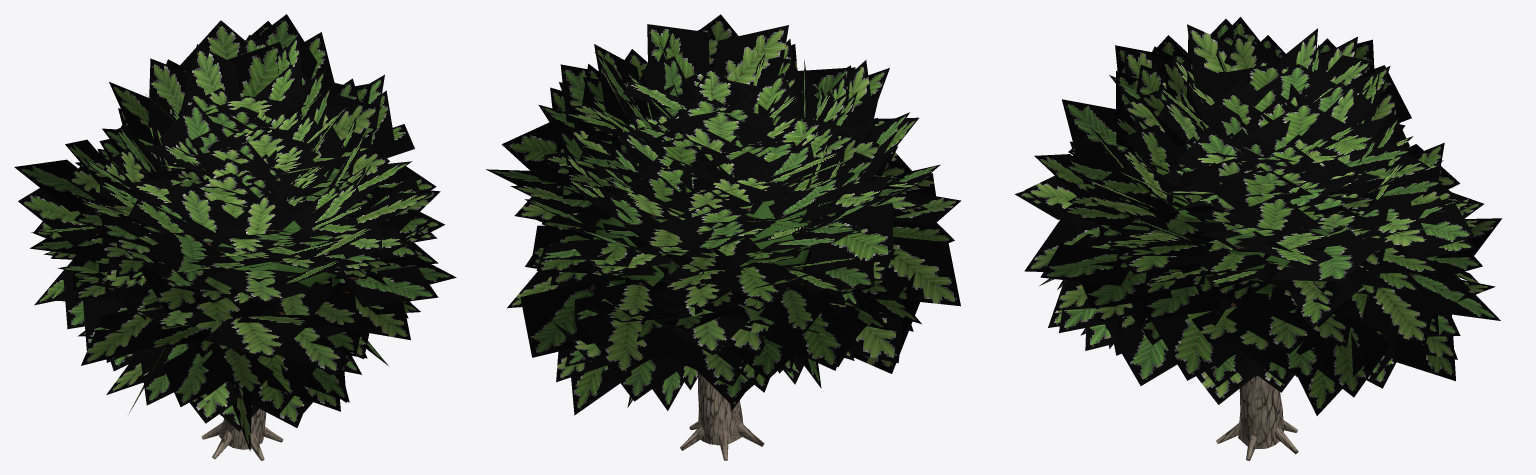
The model's file is broadleaf_tree_small.glb.
The picture shows the model from 3 angles, left to right: view 1: azimuth 30°, elevation 25°; view 2: azimuth 150°, elevation 25°; view 3: azimuth 270°, elevation 25°; orthographic projection. The views are drawn at different scales.
Visible parts, largest first — view 1: broadleaf_tree_small_leaves, broadleaf_tree_small_Bark_Tree, broadleaf_tree_small_Leaf_Tree; view 2: broadleaf_tree_small_leaves, broadleaf_tree_small_Bark_Tree, broadleaf_tree_small_Leaf_Tree; view 3: broadleaf_tree_small_leaves, broadleaf_tree_small_Bark_Tree, broadleaf_tree_small_Leaf_Tree.
Boxes of the visible parts, bbox=[...] form: broadleaf_tree_small_leaves: bbox=[14, 14, 456, 451]; broadleaf_tree_small_Bark_Tree: bbox=[201, 409, 283, 460]; broadleaf_tree_small_Leaf_Tree: bbox=[167, 205, 339, 311]; broadleaf_tree_small_leaves: bbox=[486, 14, 960, 415]; broadleaf_tree_small_Bark_Tree: bbox=[680, 374, 764, 460]; broadleaf_tree_small_Leaf_Tree: bbox=[596, 201, 810, 285]; broadleaf_tree_small_leaves: bbox=[1015, 17, 1501, 415]; broadleaf_tree_small_Bark_Tree: bbox=[1216, 375, 1298, 460]; broadleaf_tree_small_Leaf_Tree: bbox=[1138, 190, 1290, 294].
Bounding box in the file's own units: 6.22 × 5.83 × 6.46.
3 materials, 2 textured.
